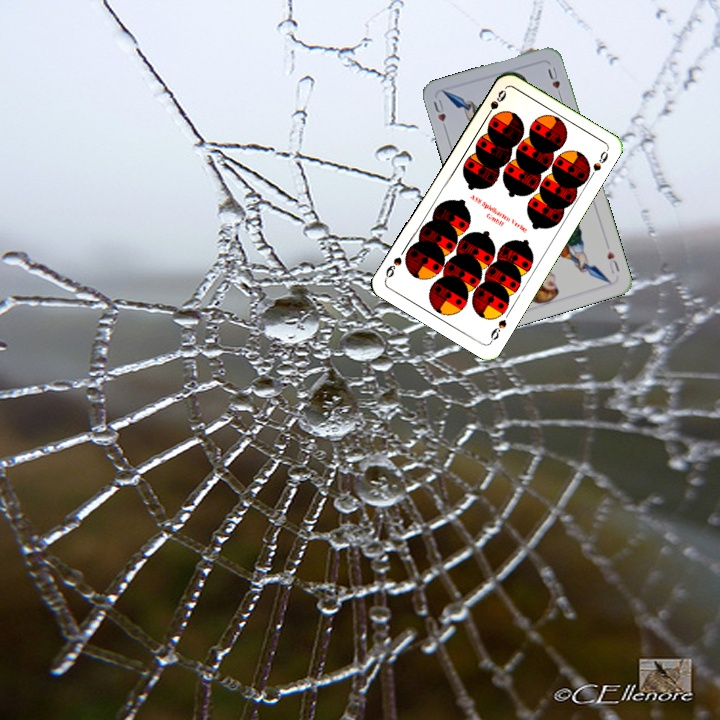HU: (429, 95, 450, 134), (603, 247, 622, 276)
S9: (481, 86, 509, 122), (486, 315, 509, 346)
